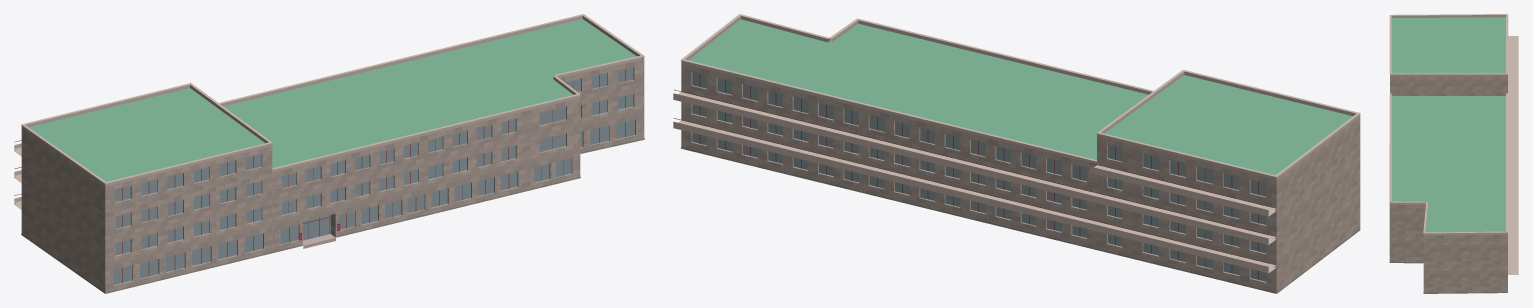
The picture shows the model from 3 angles, left to right: view 1: azimuth 30°, elevation 25°; view 2: azimuth 150°, elevation 25°; view 3: azimuth 270°, elevation 25°; orthographic projection. The views are drawn at different scales.
Parts seen in each view (by area): view 1: osm136189135__wall, osm136189135__roof, osm136189135__glass, osm136189135__parapet, osm136189135__trim, osm136189135__base, osm136189135__frame; view 2: osm136189135__roof, osm136189135__wall, osm136189135__trim, osm136189135__glass, osm136189135__parapet, osm136189135__frame, osm136189135__base; view 3: osm136189135__roof, osm136189135__wall, osm136189135__trim, osm136189135__parapet, osm136189135__base.
Boxes of the visible parts, x1,y1,x2,y2 form: osm136189135__wall: (21, 59, 644, 293); osm136189135__roof: (29, 19, 636, 181); osm136189135__glass: (113, 67, 634, 284); osm136189135__parapet: (21, 15, 644, 186); osm136189135__trim: (14, 14, 644, 209); osm136189135__base: (21, 138, 644, 293); osm136189135__frame: (14, 69, 625, 282); osm136189135__roof: (688, 19, 1352, 293); osm136189135__wall: (681, 63, 1360, 293); osm136189135__trim: (673, 14, 1360, 273); osm136189135__glass: (692, 72, 1266, 281); osm136189135__parapet: (681, 16, 1360, 180); osm136189135__frame: (674, 74, 1268, 279); osm136189135__base: (681, 147, 1360, 293); osm136189135__roof: (1391, 17, 1505, 293); osm136189135__wall: (1389, 76, 1507, 292); osm136189135__trim: (1389, 14, 1518, 274); osm136189135__parapet: (1389, 15, 1507, 235); osm136189135__base: (1389, 262, 1507, 293).
Bounding box in the file's own units: 79.6 × 15.25 × 21.74.
Materials: 10 (2 with a texture image).
